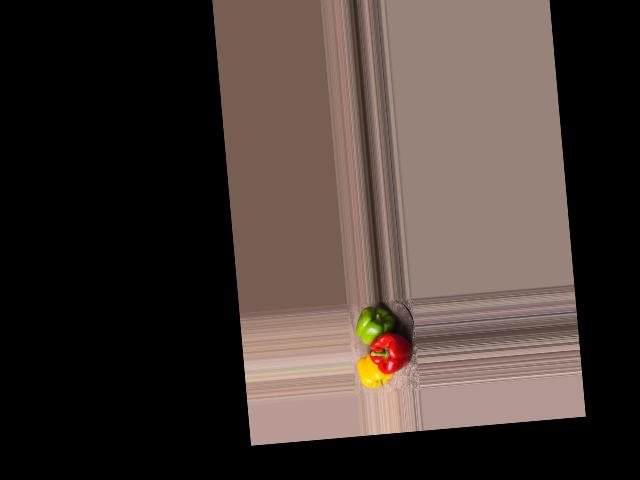bell_pepper: (354, 354, 394, 389)
